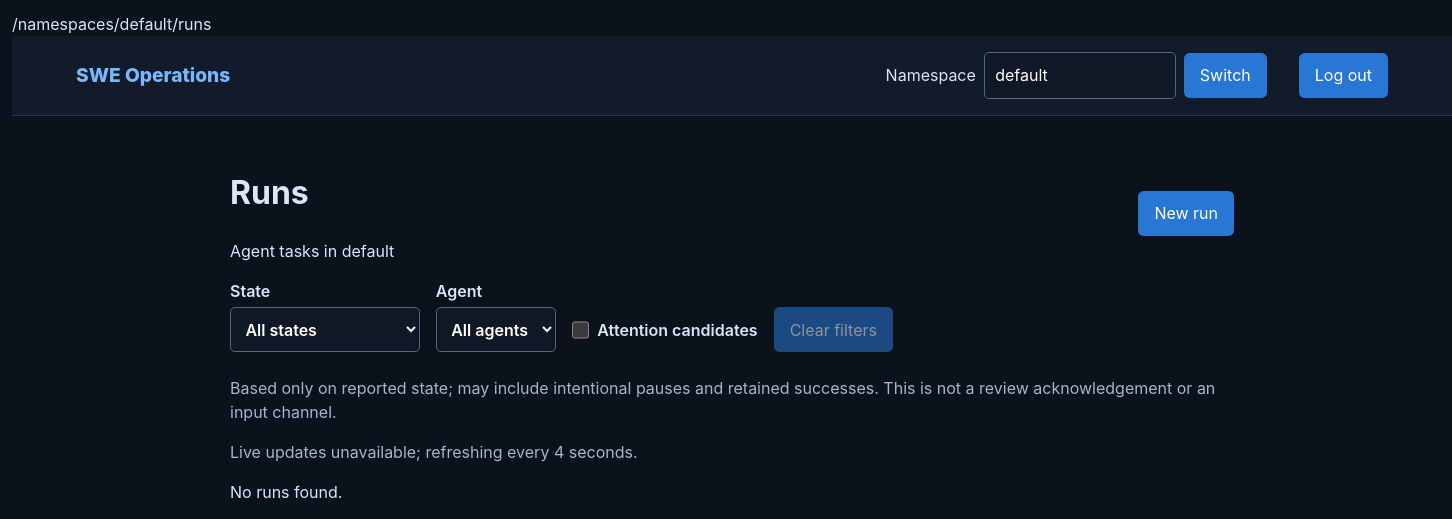
Test: App frozen API integration › rejects invalid namespace input Default without navigating or fetching
Expected: the text "No runs found." is shown, left=230, top=482, right=342, bottom=502
Replace the text in the field labelled "Namespace" with "Default" at (1080, 75), box left=984, top=52, right=1176, bottom=99
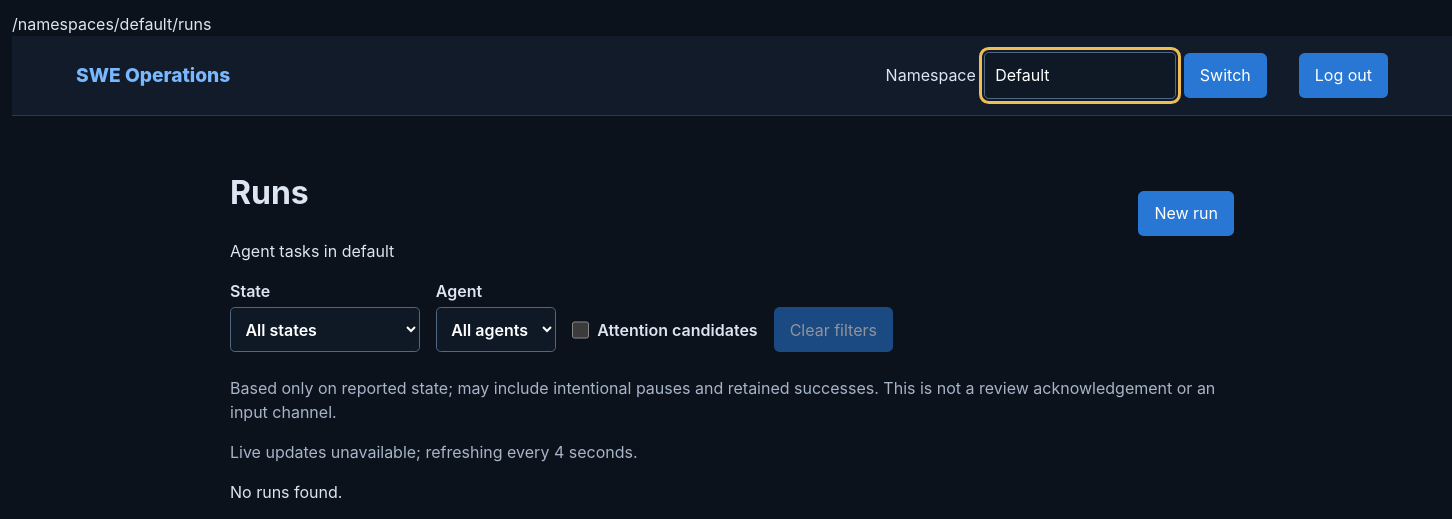
Click the button "Switch" at (1225, 75), box left=1184, top=53, right=1267, bottom=98
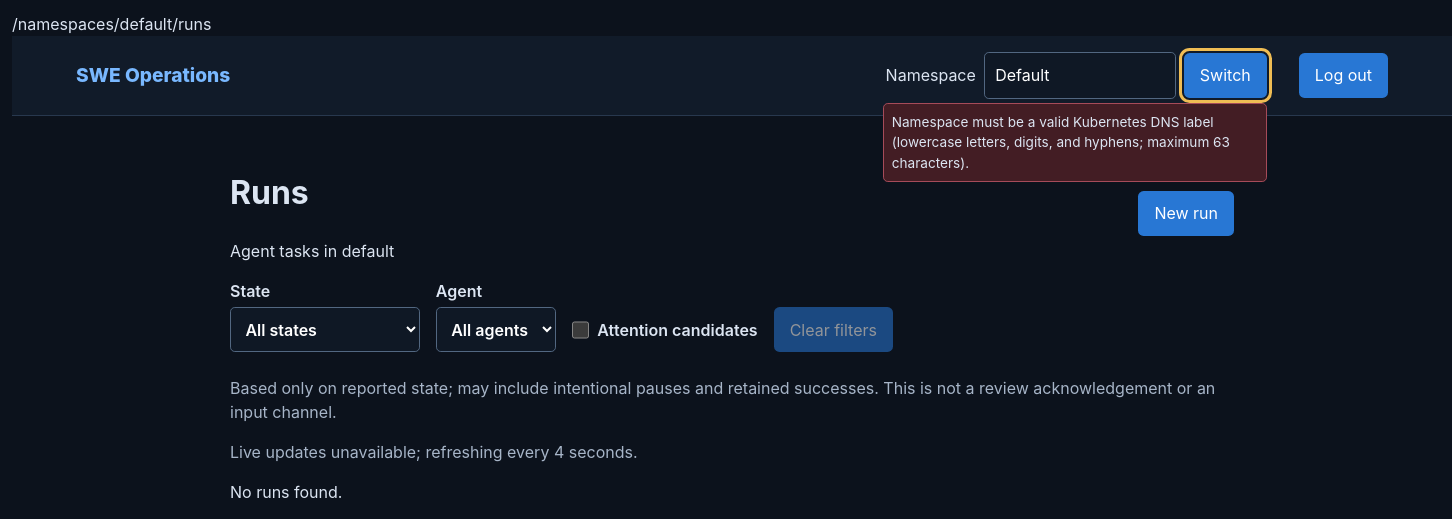
Expected: the text with test id "location" reads "/namespaces/default/runs", left=12, top=14, right=211, bottom=34
Expected: the 1st message shows "valid Kubernetes DNS label", left=892, top=114, right=1230, bottom=171
